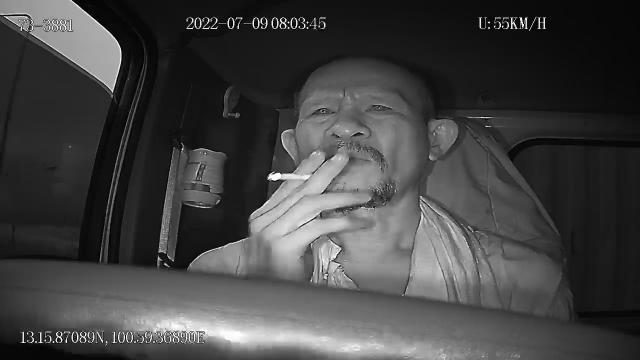SafeDriving: (361, 95, 402, 119), (301, 100, 340, 125)
Smoking: (266, 170, 314, 182)
